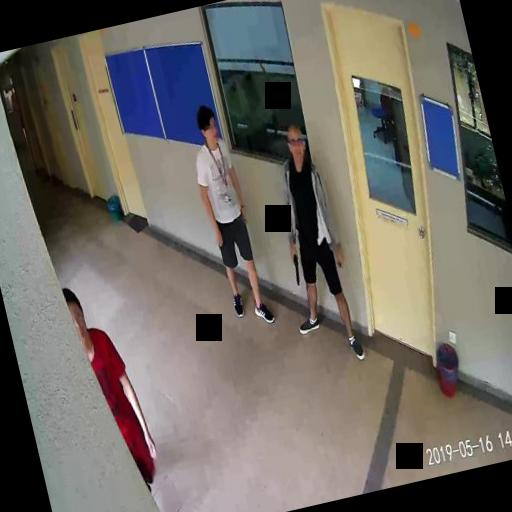Handgun: (288, 250, 302, 285)
